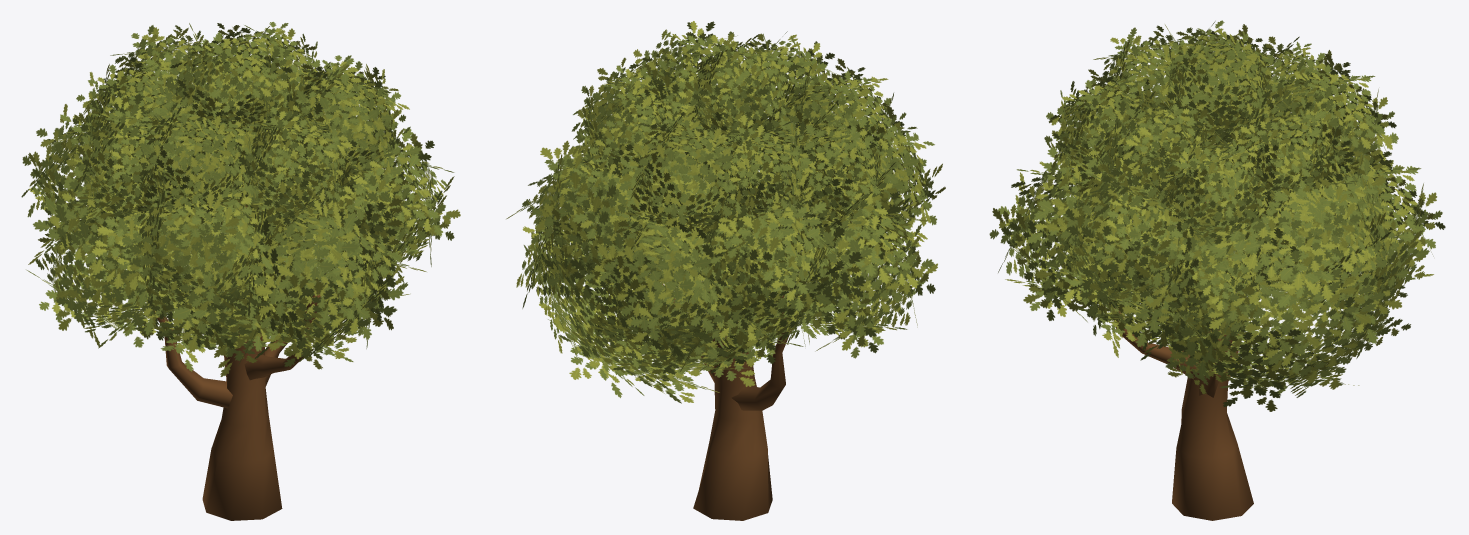
Rendered from Oak_Tree_3.glb.
The picture shows the model from 3 angles, left to right: view 1: azimuth 30°, elevation 25°; view 2: azimuth 150°, elevation 25°; view 3: azimuth 270°, elevation 25°; orthographic projection.
Parts seen in each view (by area): view 1: Oak_Tree_3; view 2: Oak_Tree_3; view 3: Oak_Tree_3.
Boxes of the visible parts, bbox=[...] form: Oak_Tree_3: bbox=[21, 21, 460, 520]; Oak_Tree_3: bbox=[506, 21, 945, 520]; Oak_Tree_3: bbox=[989, 20, 1445, 520].
Bounding box in the file's own units: 5.48 × 6.42 × 5.75.
Materials: 2 (2 with a texture image).
